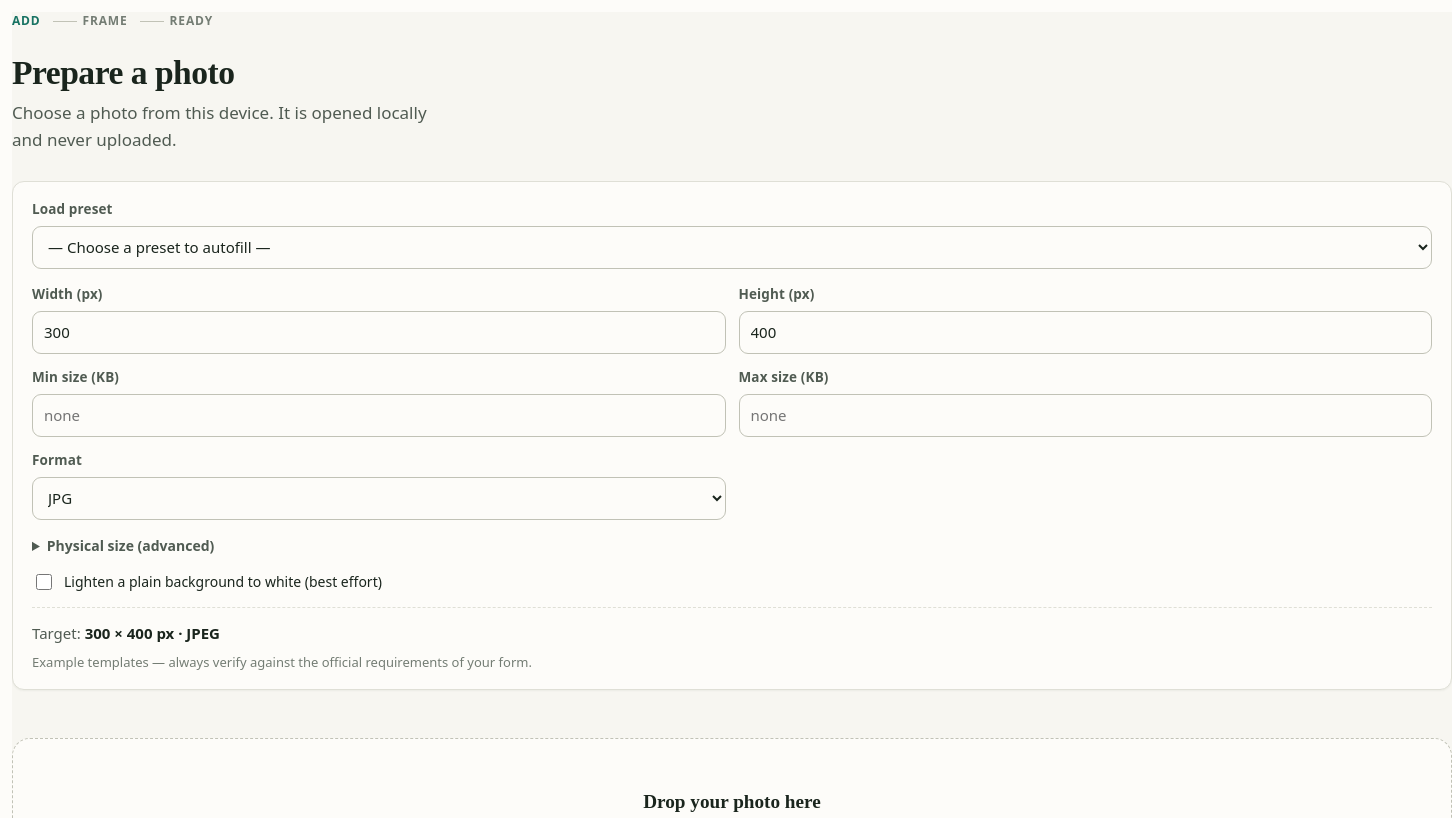
it: PhotoView flow › derives pixel dimensions from physical size and DPI (T017)
Click the heading "Physical size (advanced)" at x=131, y=545, box [47,536,214,555]
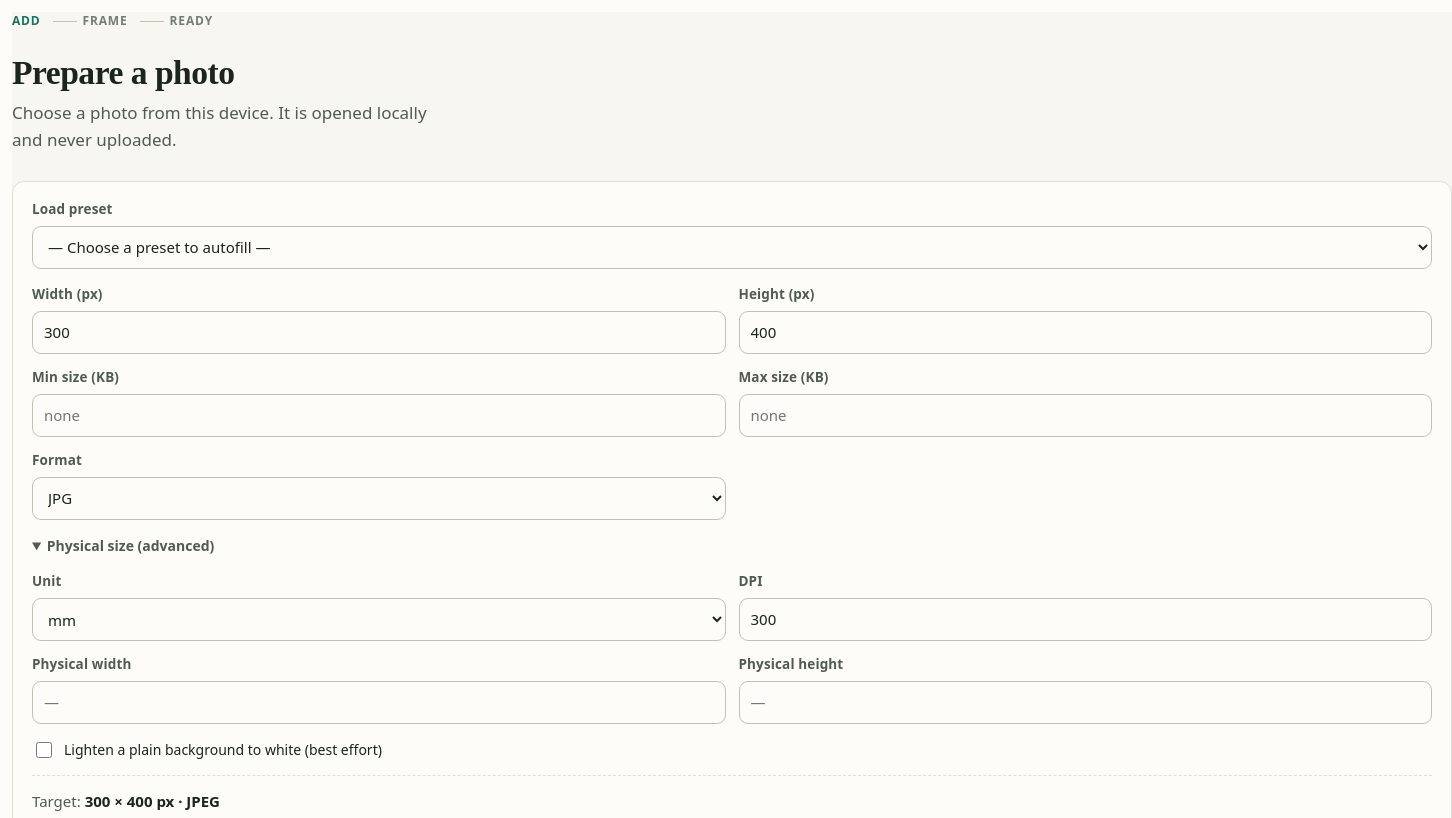
Check: the number field labelled "Width (px)" holds "300", box [32,311,726,354]
Type "35" into the number field labelled "Physical width" at x=379, y=703, box [32,681,726,724]
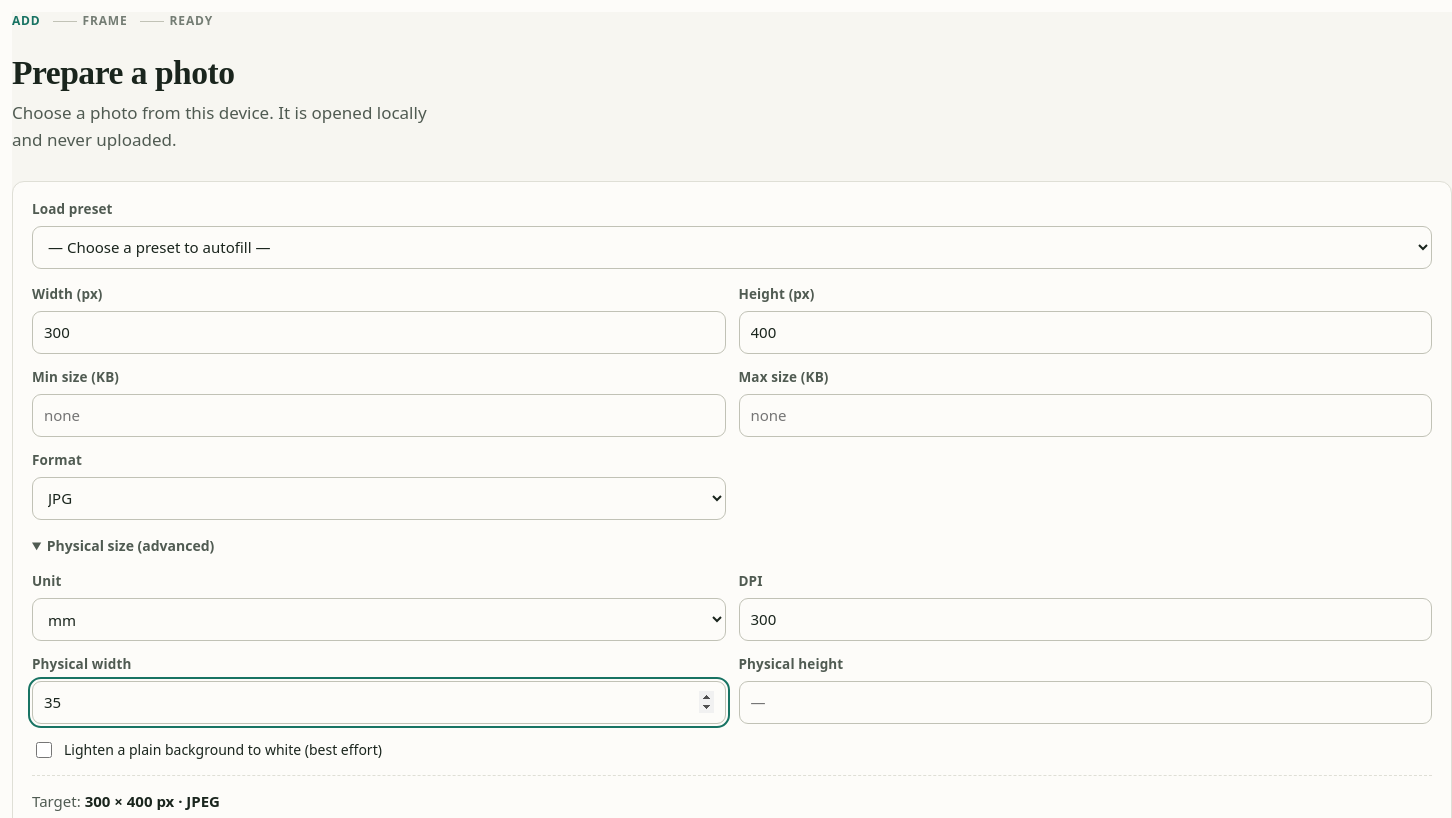
Type "45" into the number field labelled "Physical height" at x=1085, y=703, box [738,681,1432,724]
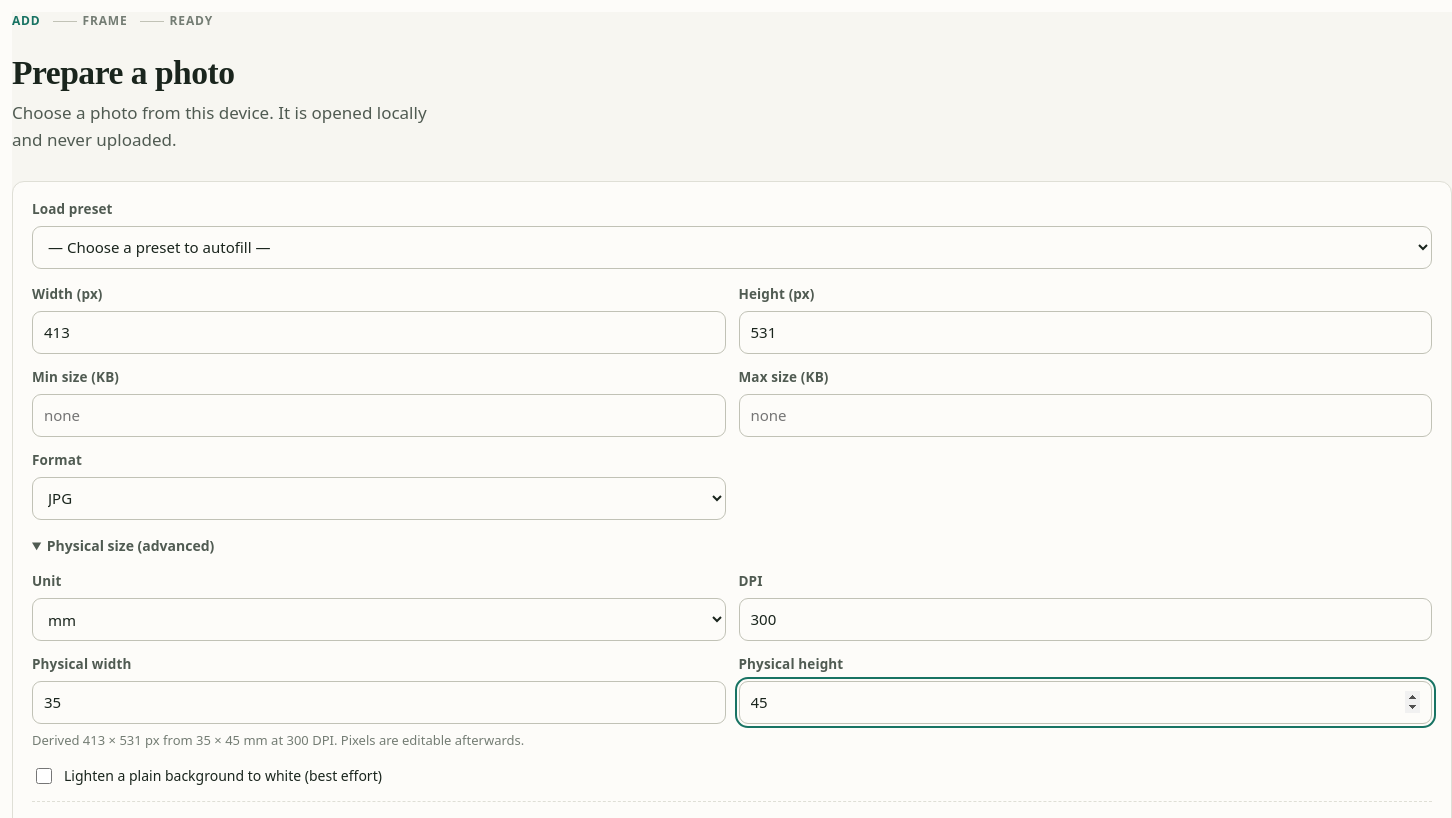
Check: the number field labelled "Width (px)" holds "413", box [32,311,726,354]
Check: the number field labelled "Height (px)" holds "531", box [738,311,1432,354]
Check: the text "Derived 413 × 531 px from 35 × 45 mm at 300 DPI" is shown, box [32,731,524,749]
